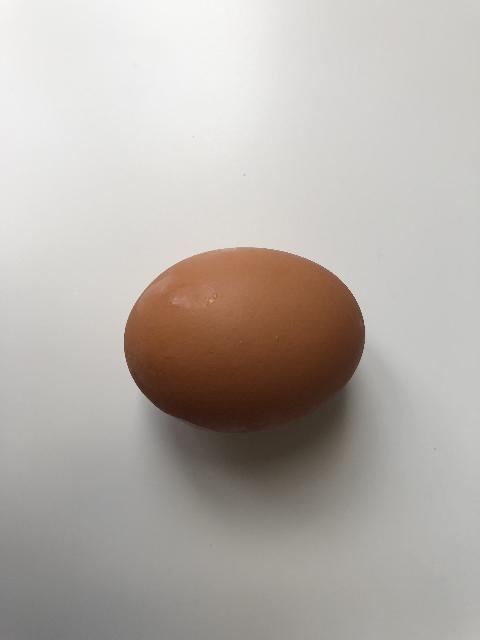Sano: (123, 245, 366, 434)
